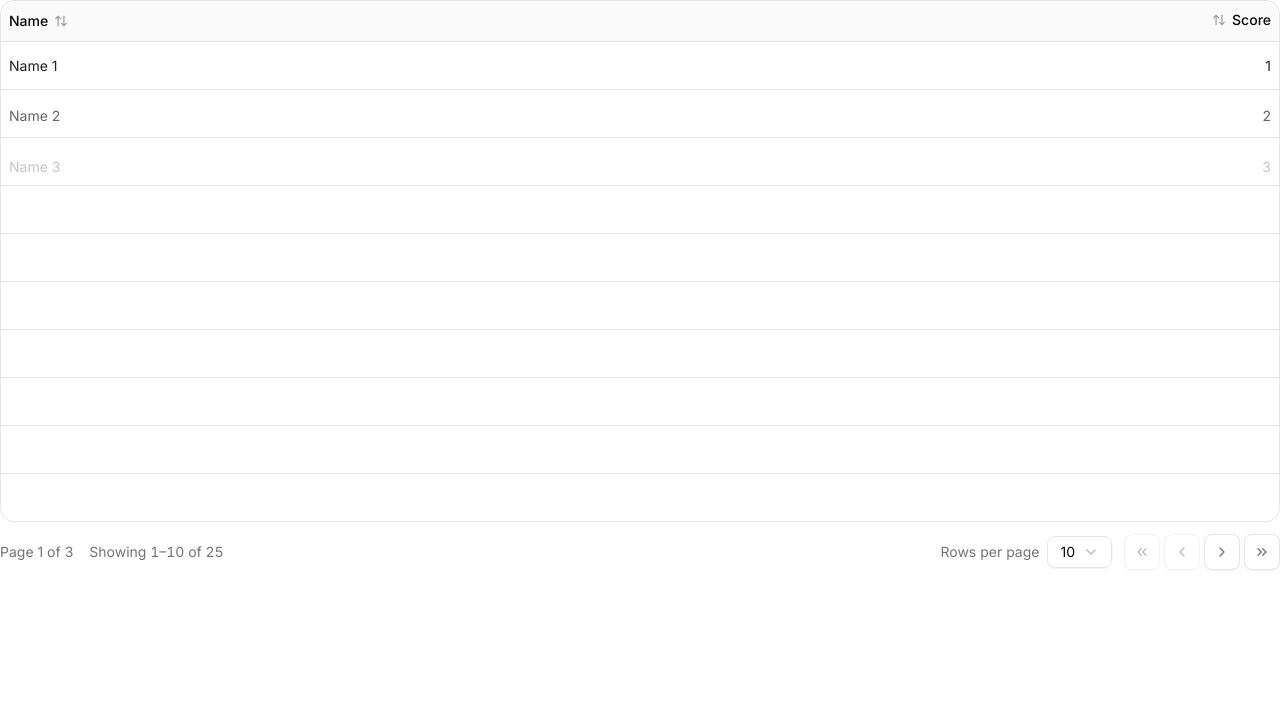
Scenario: <DataTable /> — pager integration (usePagination) › changes the page size and re-windows the rows
Expected: the text "Page 1 of 3" is shown, [0,542,73,562]
Click the dropdown named "Rows per page" at (1080, 552), box [1048,536,1112,568]
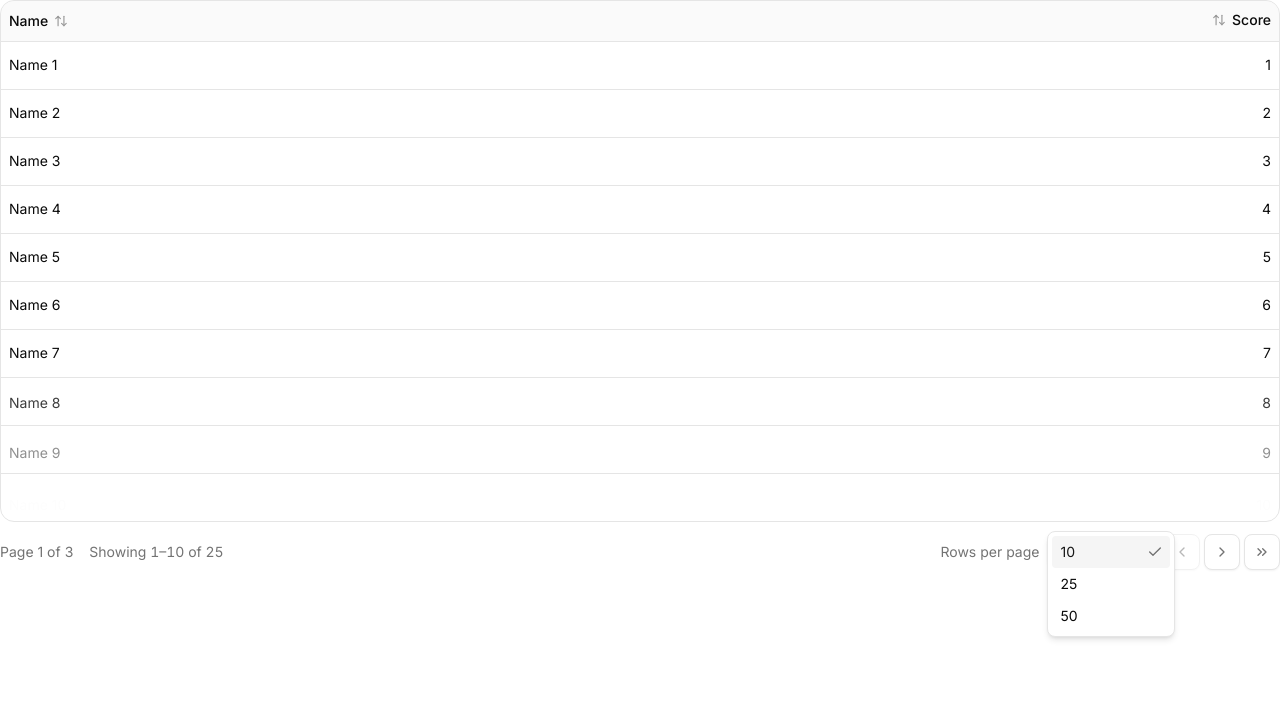
Click the option "25" at (1069, 584), box [1060,575,1077,592]
(page scrolled)
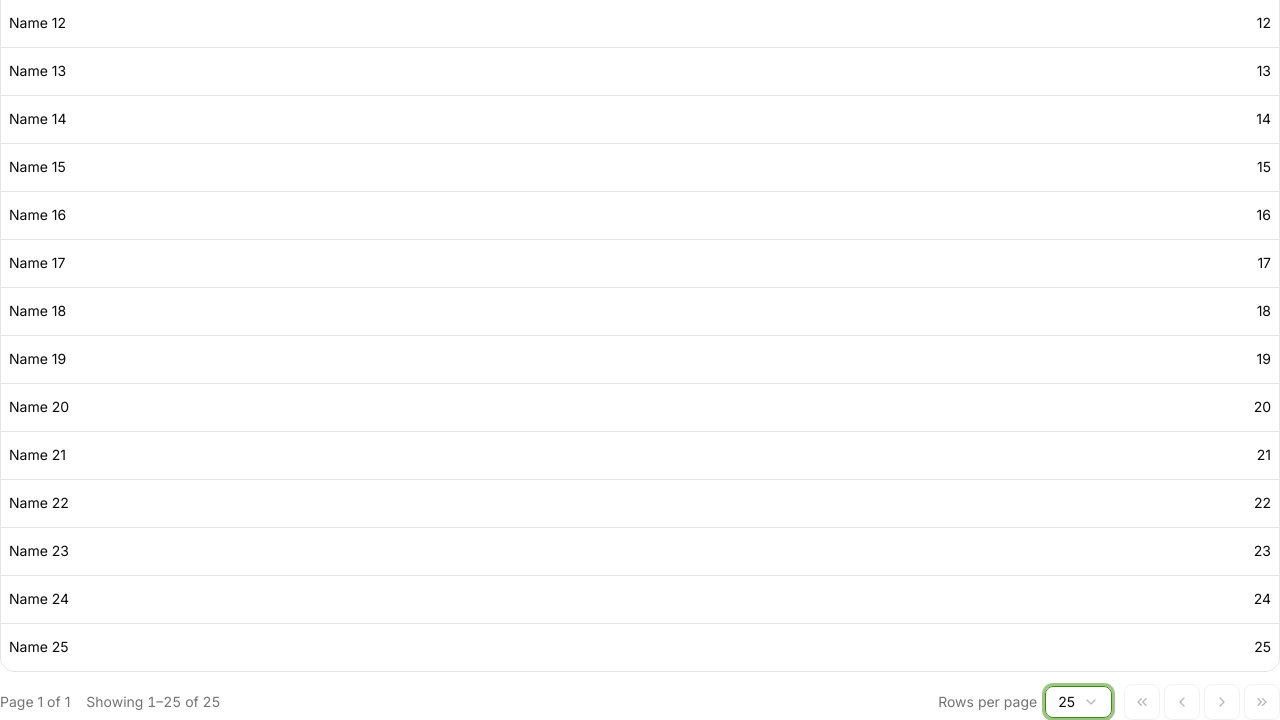
Expected: the text "Page 1 of 1" is shown, [0,692,70,712]
